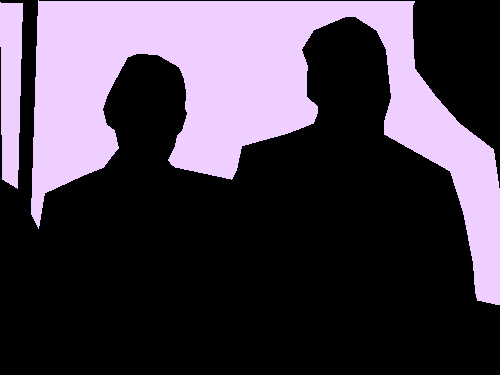Train: (0, 0, 500, 305)
